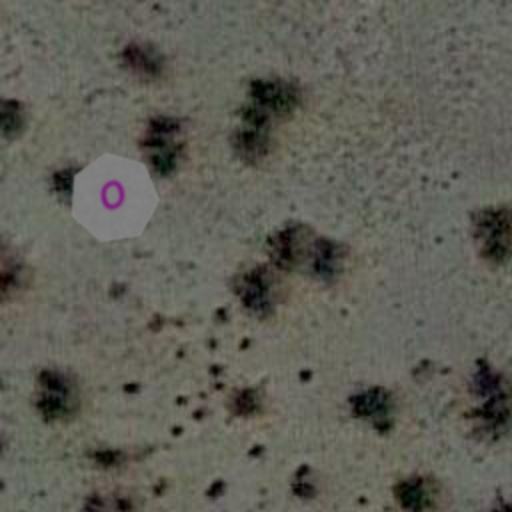heptagon: (54, 138, 174, 258)
